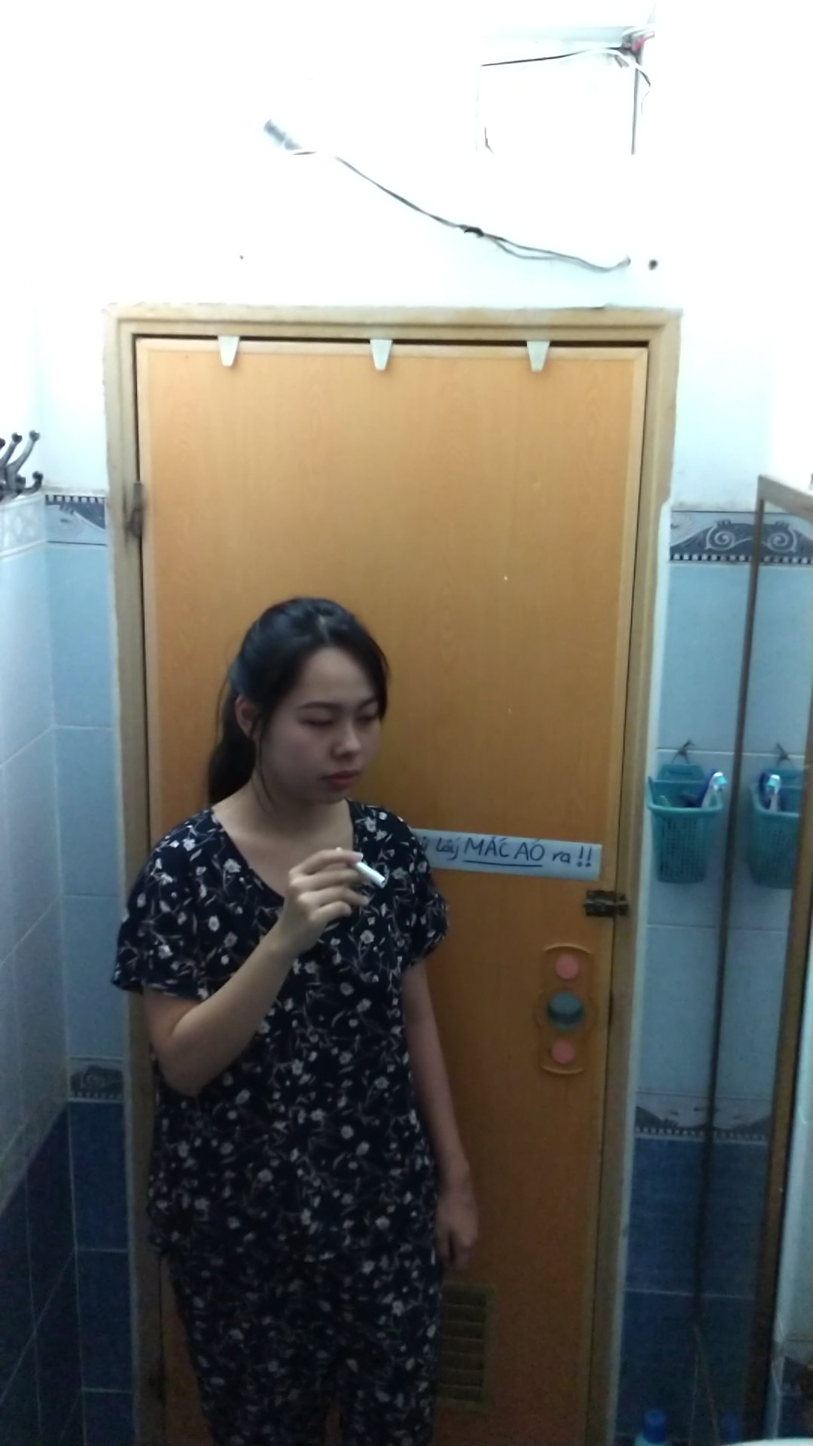cigarette: (352, 857, 391, 895)
person: (114, 582, 480, 1445)
